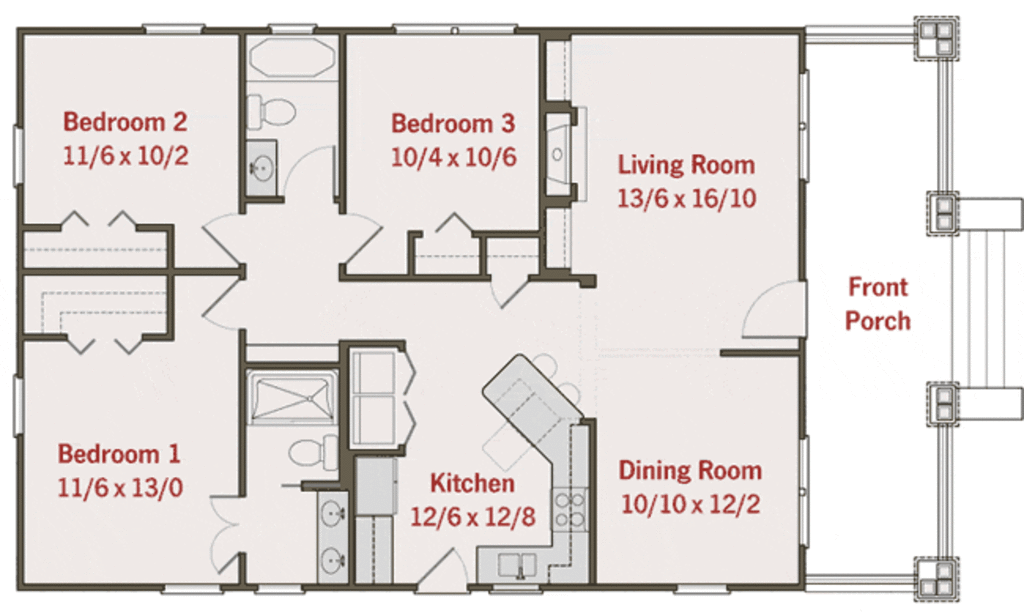door: (729, 281, 815, 344), (199, 481, 255, 572), (408, 547, 478, 596), (281, 146, 339, 202), (196, 212, 251, 269), (336, 212, 387, 269), (204, 278, 256, 330), (489, 271, 534, 317)
kitchen_bar: (467, 351, 609, 537)
large_sink: (244, 84, 301, 138), (288, 434, 342, 478)
small_sink: (320, 492, 354, 583), (242, 139, 278, 196)
small_sofa: (349, 396, 401, 449), (349, 354, 400, 394)
tub: (246, 369, 338, 427), (248, 35, 342, 81)
twin_sink: (491, 553, 552, 587)
window: (394, 17, 520, 39), (798, 435, 815, 552), (6, 118, 27, 188), (139, 19, 207, 40), (671, 581, 734, 598), (264, 17, 324, 34)
